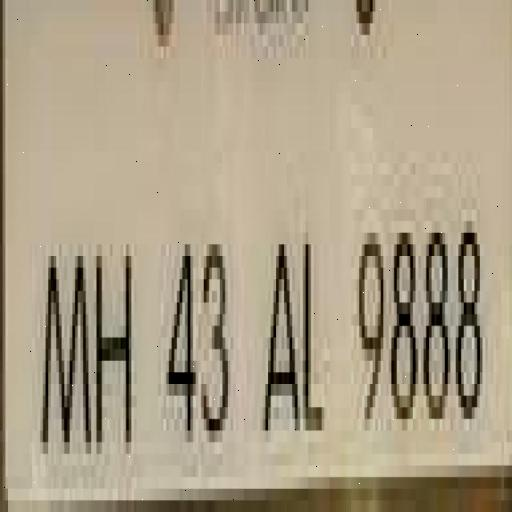number plate: (0, 23, 498, 512)
